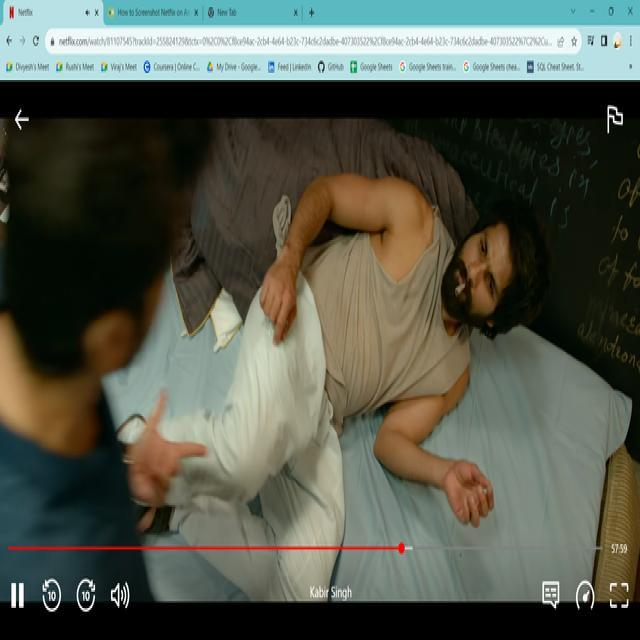smoking: (453, 274, 472, 302)
